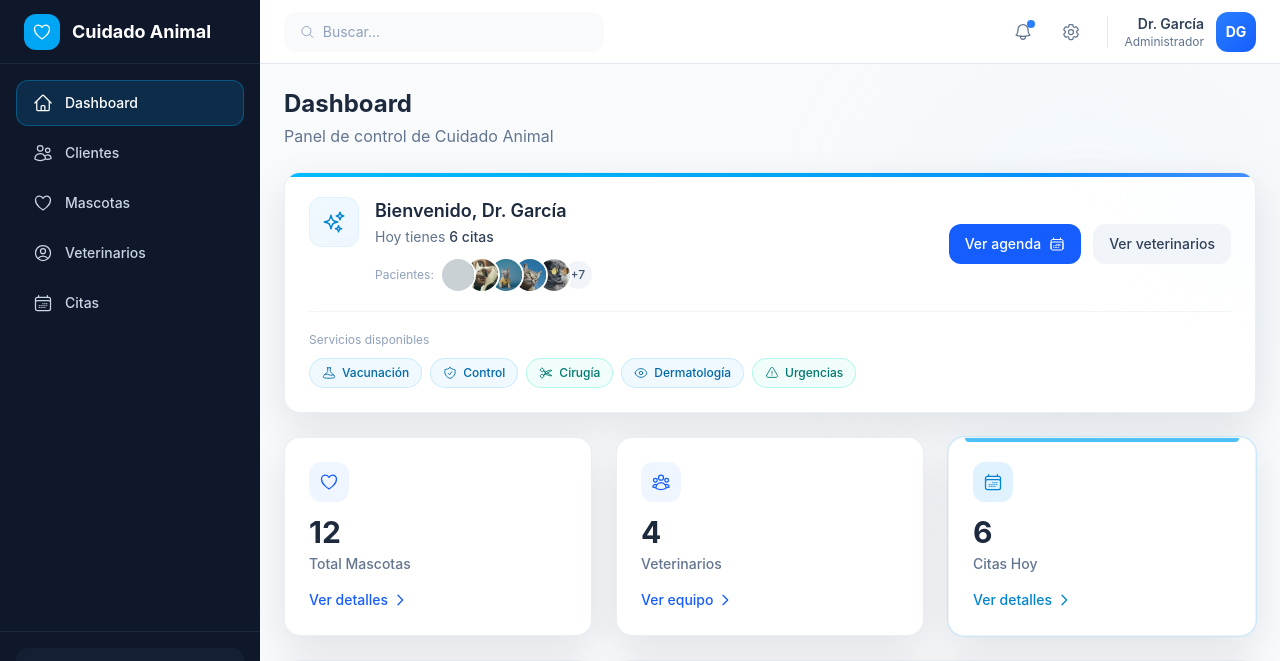
Test: Navegación Sidebar › navega a Mascotas
Expected: the heading "Dashboard" is shown, [284,89,412,118]
Click the link "Mascotas" at (82, 203), box [33,193,130,213]
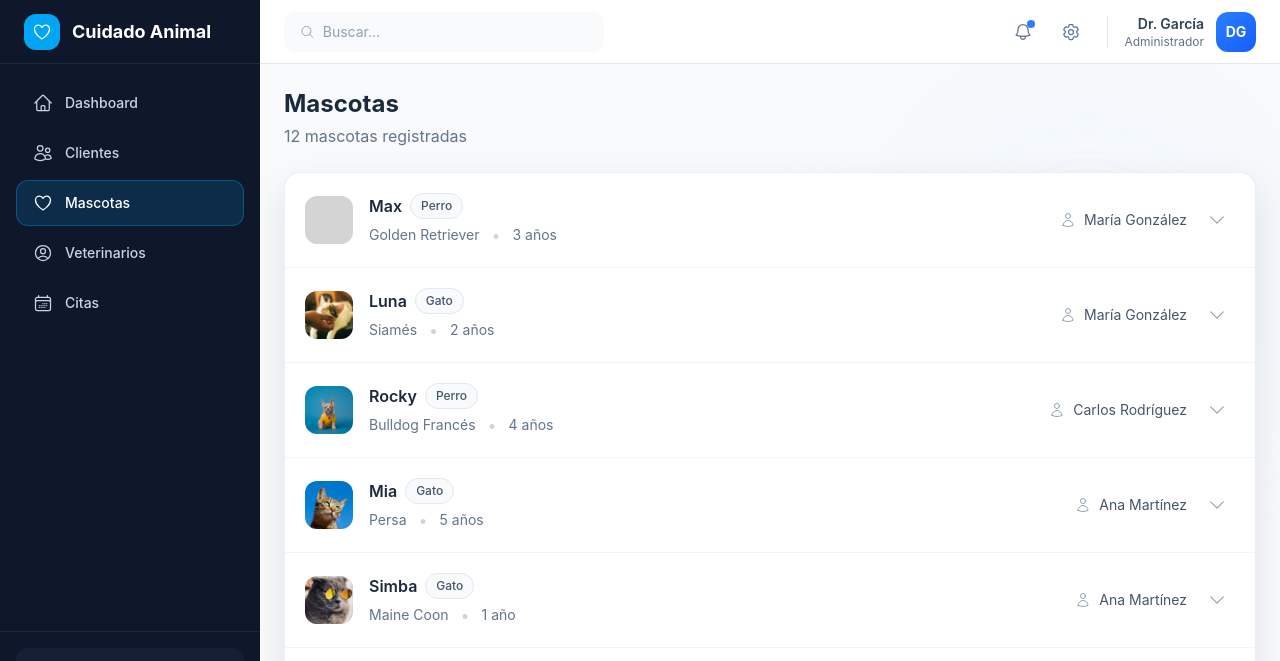
Now the heading "Mascotas" is shown, box [284,89,399,118]
